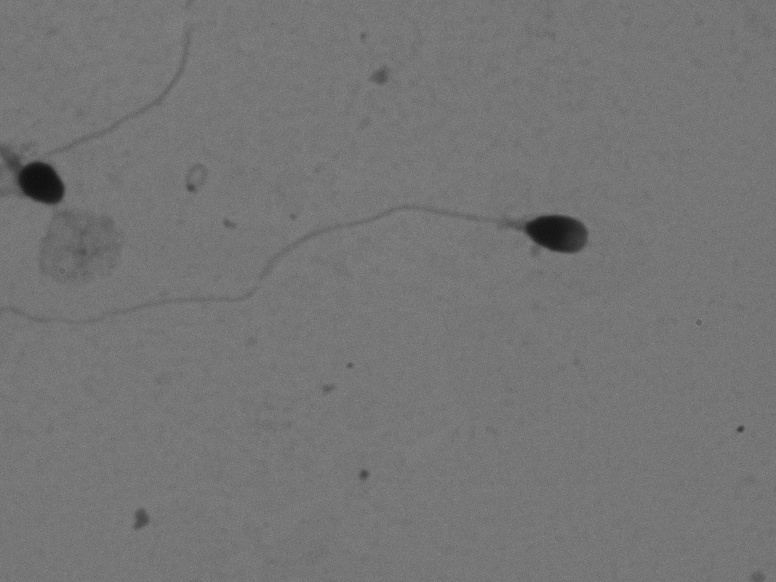Abnormal: (10, 19, 214, 228)
Normal: (15, 199, 611, 375)
